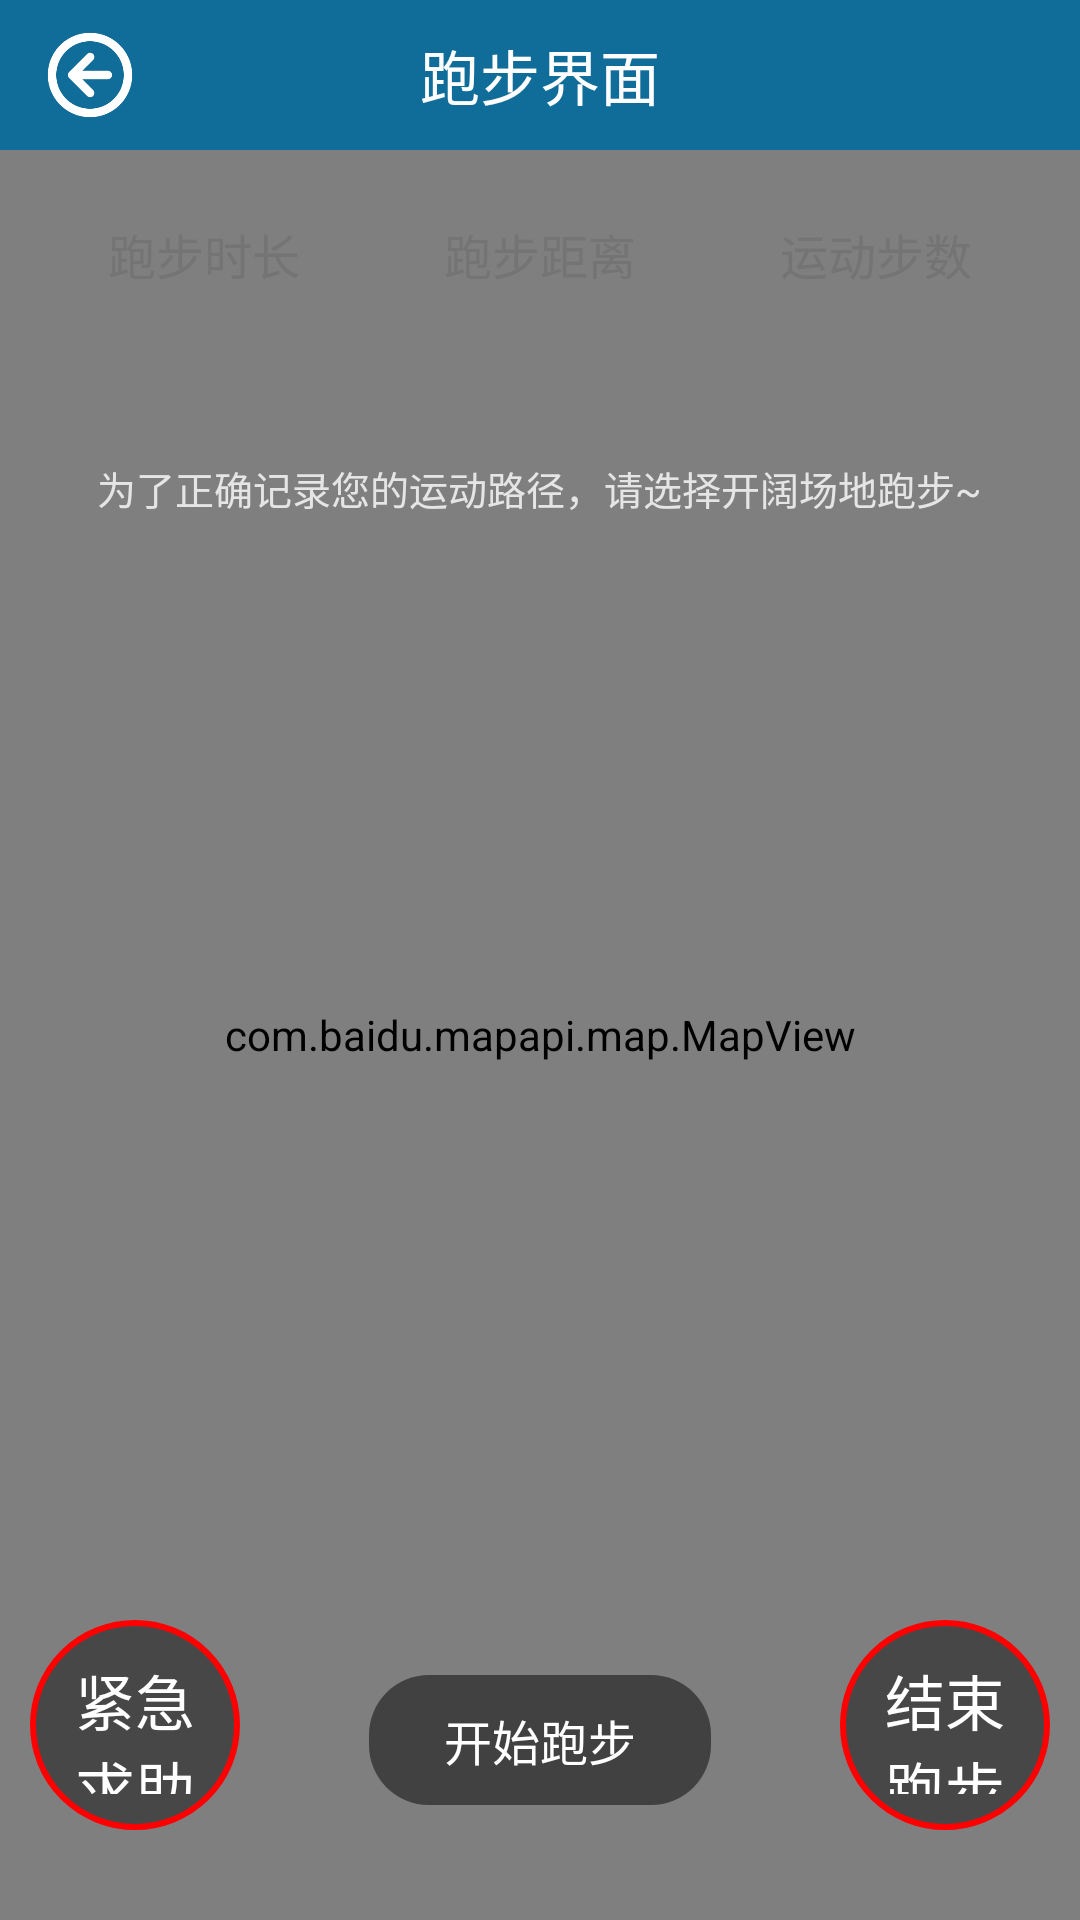

Named icons in this screenshot (1080px x 1920px) and their bounding boxes, region(x1, y1, x2, y2):
back: region(48, 33, 132, 117)
